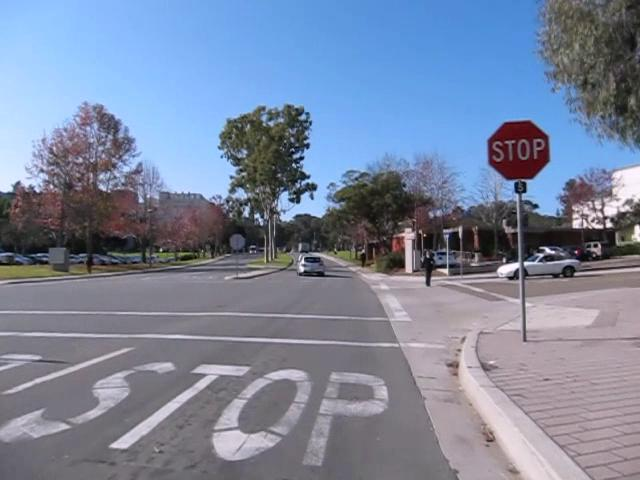stop: (486, 119, 551, 181)
